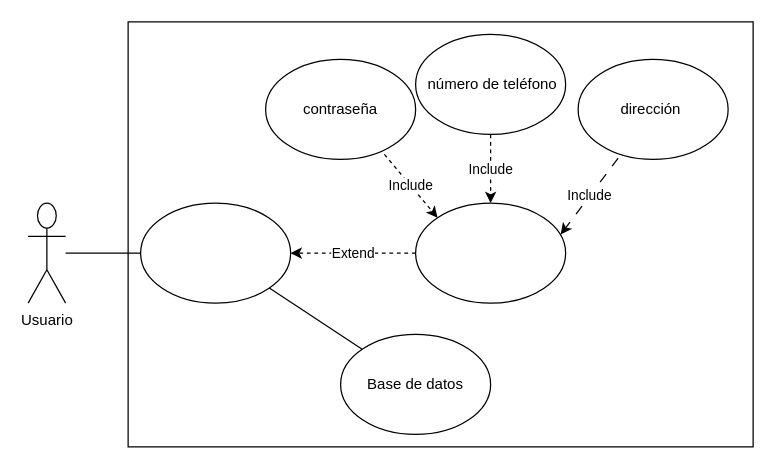
Some shapes in this 775 by 469 pixel diagram are drawn without their labels. The shapes that lost their labels are listed below. From the top down, each one's centre as x and y in pixels, then its label:
point 215,252: Iniciar sesion
point 490,252: Registrarse
